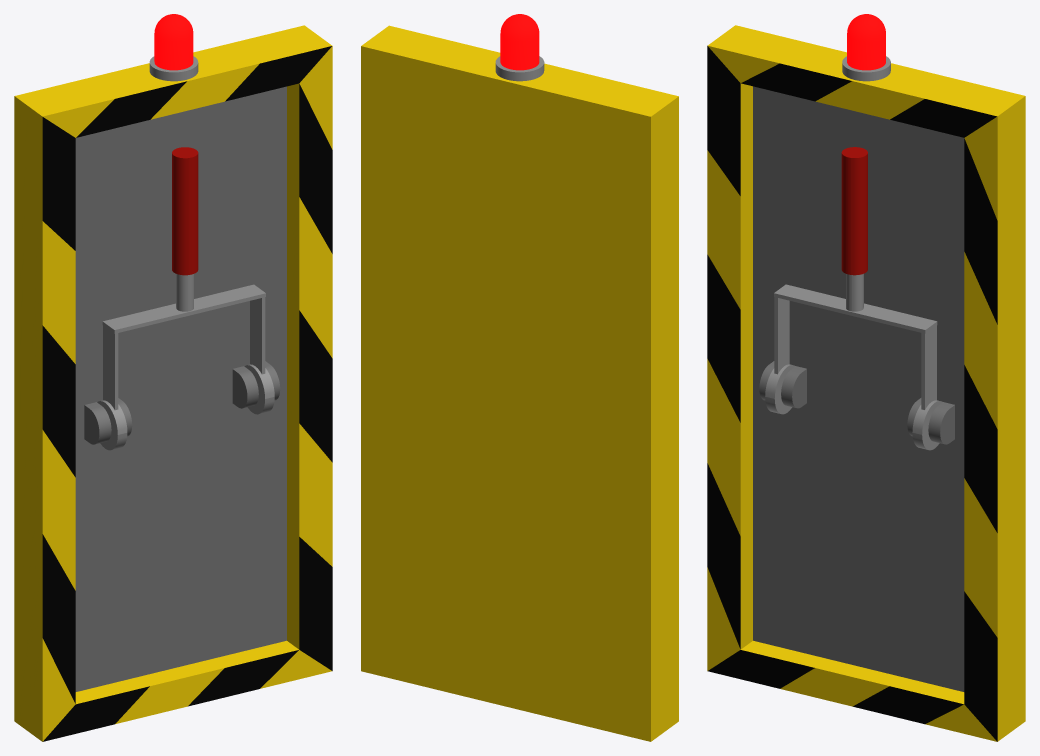
File: leva.fbx
The picture shows the model from 3 angles, left to right: view 1: azimuth 30°, elevation 25°; view 2: azimuth 150°, elevation 25°; view 3: azimuth 330°, elevation 25°; orthographic projection.
Parts seen in each view (by area): view 1: Cube, Cube.001, Sphere, Cylinder.001, Cylinder; view 2: Cube, Sphere; view 3: Cube, Cube.001, Sphere, Cylinder, Cylinder.001.
Part boxes in pixels (left/top/right/bottom): Cube: left=14, top=25, right=332, bottom=741; Cube.001: left=97, top=147, right=274, bottom=450; Sphere: left=149, top=14, right=198, bottom=81; Cylinder.001: left=232, top=361, right=280, bottom=408; Cylinder: left=84, top=398, right=132, bottom=444; Cube: left=361, top=25, right=678, bottom=741; Sphere: left=495, top=14, right=544, bottom=81; Cube: left=707, top=25, right=1025, bottom=741; Cube.001: left=765, top=147, right=942, bottom=450; Sphere: left=842, top=14, right=890, bottom=81; Cylinder: left=759, top=361, right=806, bottom=408; Cylinder.001: left=907, top=398, right=954, bottom=444.
Size of the model in its own units: 200 by 449 by 44.04.
